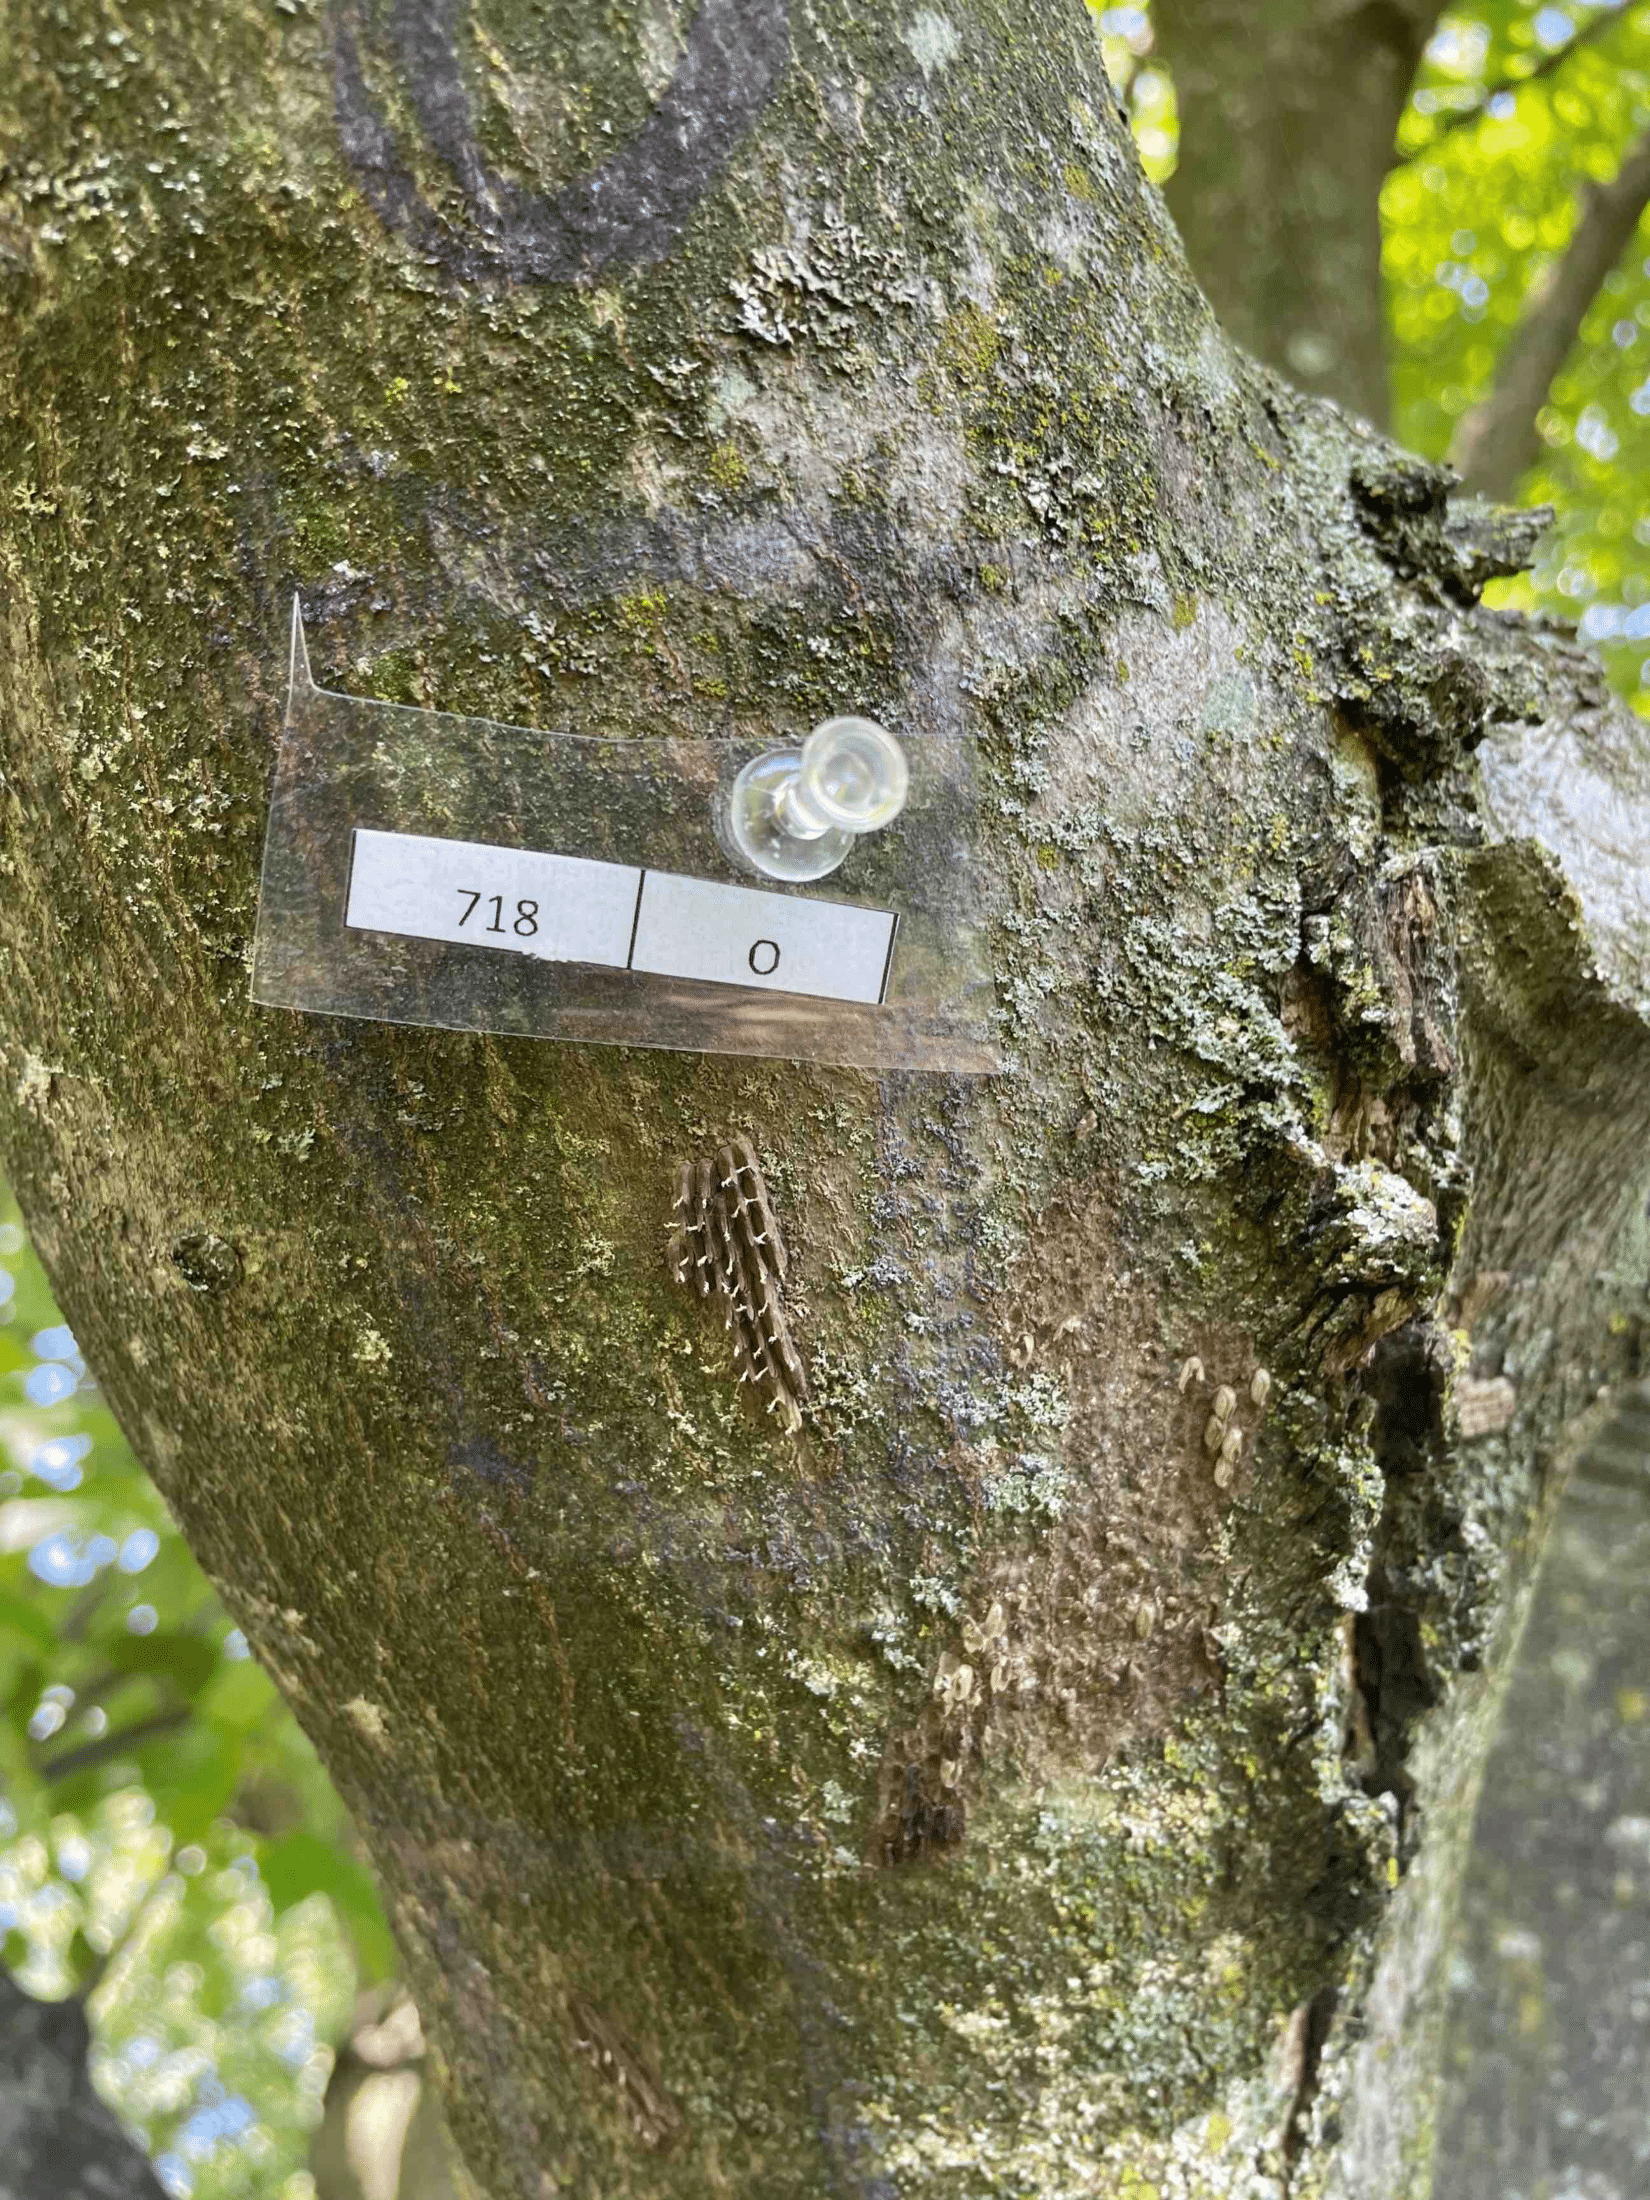egg masses: (586, 1123, 957, 1453)
